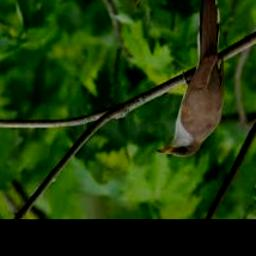Cuckoo: (156, 0, 225, 157)
